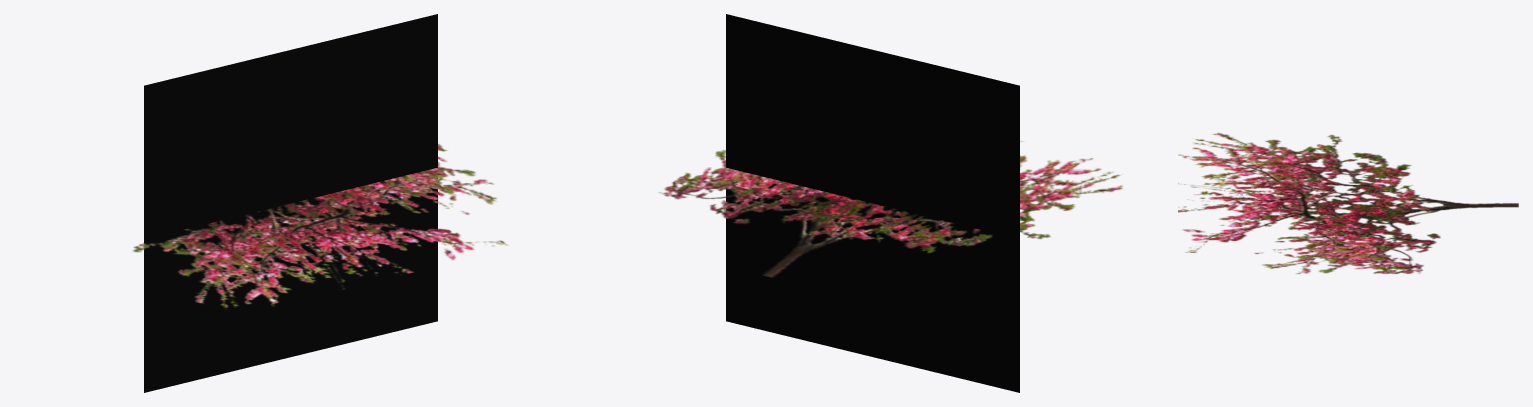
File: JJGM0013.gltf
The picture shows the model from 3 angles, left to right: view 1: azimuth 30°, elevation 25°; view 2: azimuth 150°, elevation 25°; view 3: azimuth 270°, elevation 25°; orthographic projection. The views are drawn at different scales.
Parts seen in each view (by area): view 1: Group_MatrixTransform_JJGM0013_Geometry_0, Group_MatrixTransform__Geometry_0; view 2: Group_MatrixTransform_JJGM0013_Geometry_0, Group_MatrixTransform__Geometry_0; view 3: Group_MatrixTransform__Geometry_0.
Part boxes in pixels (x1,y1,x2,y2): Group_MatrixTransform_JJGM0013_Geometry_0: (144, 14, 437, 392); Group_MatrixTransform__Geometry_0: (133, 144, 507, 307); Group_MatrixTransform_JJGM0013_Geometry_0: (726, 14, 1019, 392); Group_MatrixTransform__Geometry_0: (659, 141, 1122, 277); Group_MatrixTransform__Geometry_0: (1178, 132, 1518, 273).
Size of the model in its own units: 1.4 by 1.17 by 1.4.
2 materials, 2 textured.
